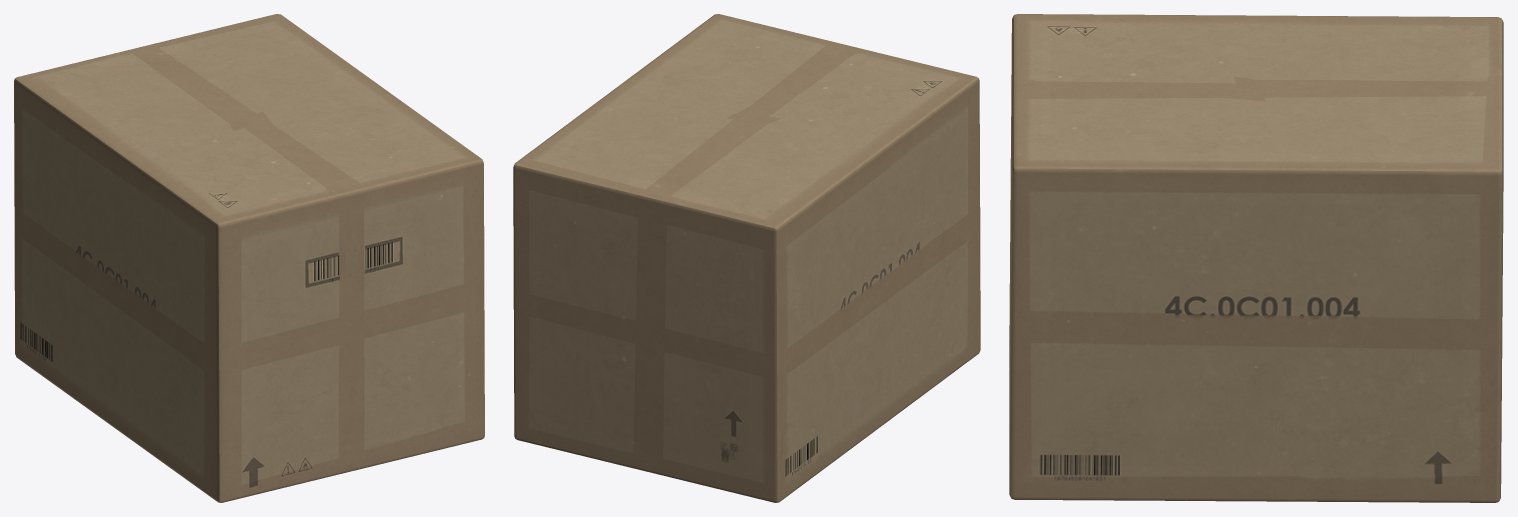
Rendered from cardboard.gltf.
3 renders of one model, left to right at view 1: azimuth 30°, elevation 25°; view 2: azimuth 150°, elevation 25°; view 3: azimuth 270°, elevation 25°, orthographic. The views are drawn at different scales.
Visible parts, largest first — view 1: box_00; view 2: box_00; view 3: box_00.
Boxes of the visible parts, left/top/right/bottom form: box_00: left=14, top=14, right=484, bottom=502; box_00: left=513, top=14, right=980, bottom=502; box_00: left=1009, top=14, right=1503, bottom=502.
Bounding box in the file's own units: 0.6206 × 0.6264 × 0.832.
Materials: 1 (1 with a texture image).
